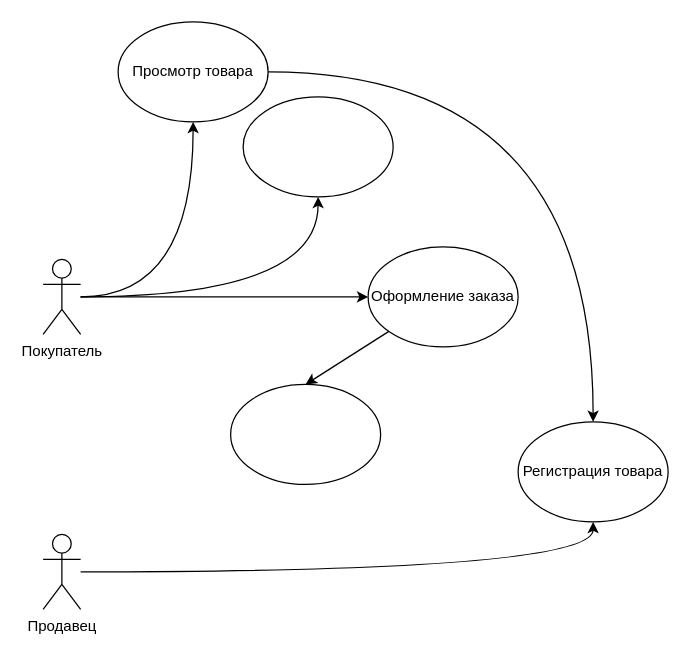
The diagram is 690 pixels wide and 658 high, and some of its shapes have lost their labels. Each missing label, with the box of its shape:
Изменение корзины: (242, 96, 393, 197)
Регистрация покупателя: (229, 383, 381, 484)
